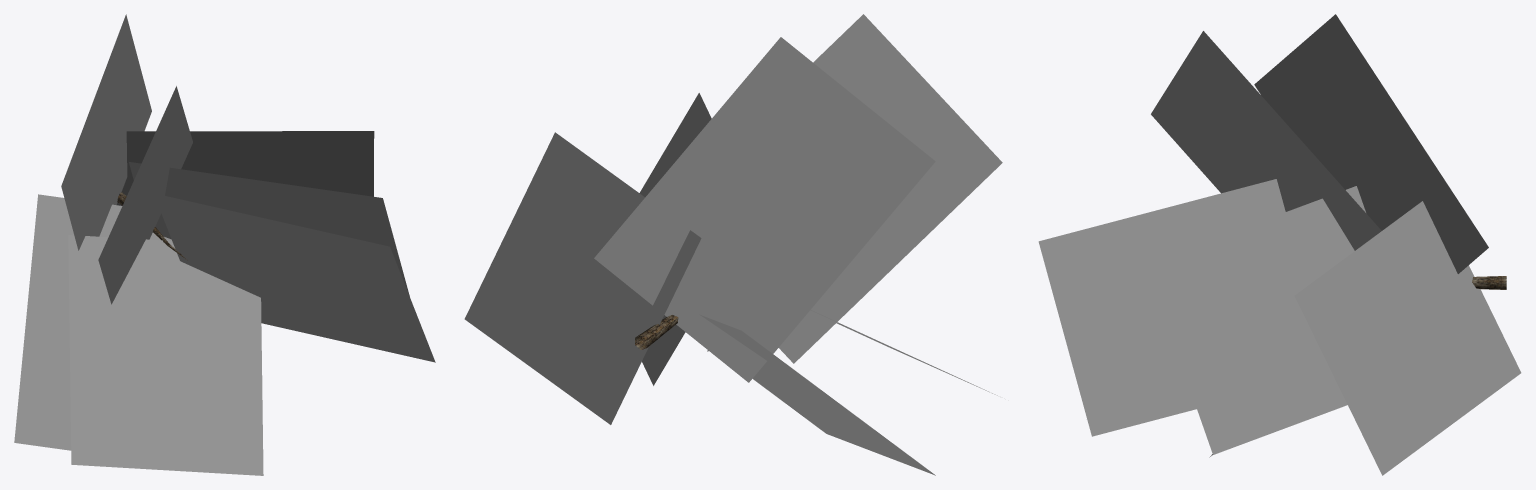
The model's file is bush2.obj.
3 renders of one model, left to right at view 1: azimuth 30°, elevation 25°; view 2: azimuth 150°, elevation 25°; view 3: azimuth 270°, elevation 25°, orthographic. The views are drawn at different scales.
Visible parts, largest first — view 1: plant_pmat3; view 2: plant_pmat3, plant_pmat1; view 3: plant_pmat3.
Part boxes in pixels (left/top/right/bottom): plant_pmat3: left=14, top=14, right=435, bottom=475; plant_pmat3: left=464, top=14, right=1002, bottom=475; plant_pmat1: left=635, top=315, right=678, bottom=349; plant_pmat3: left=1038, top=14, right=1521, bottom=475.
Size of the model in its own units: 1.09 by 1.07 by 1.08.
